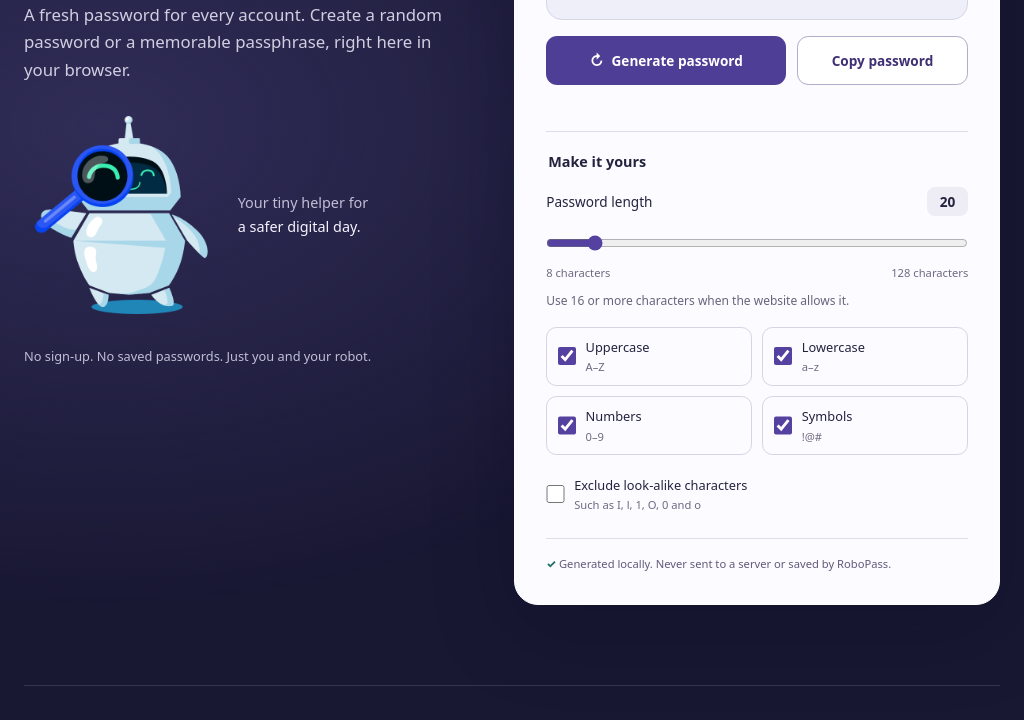
it: RoboPass user flow › shows validation and recovers when a character type is selected again
The width and height of the screenshot is (1024, 720).
(page scrolled)
Click the checkbox labelled "Uppercase A–Z" at (567, 356), box [558,347,576,365]
(page scrolled)
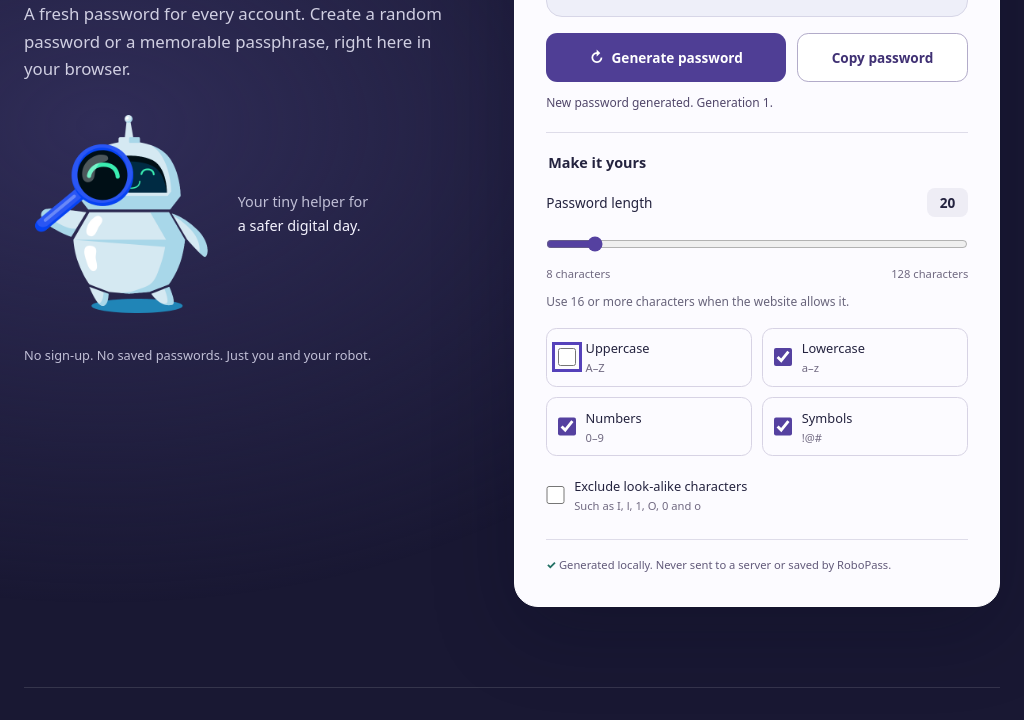
Click the checkbox labelled "Lowercase a–z" at (783, 357), box [774,348,792,366]
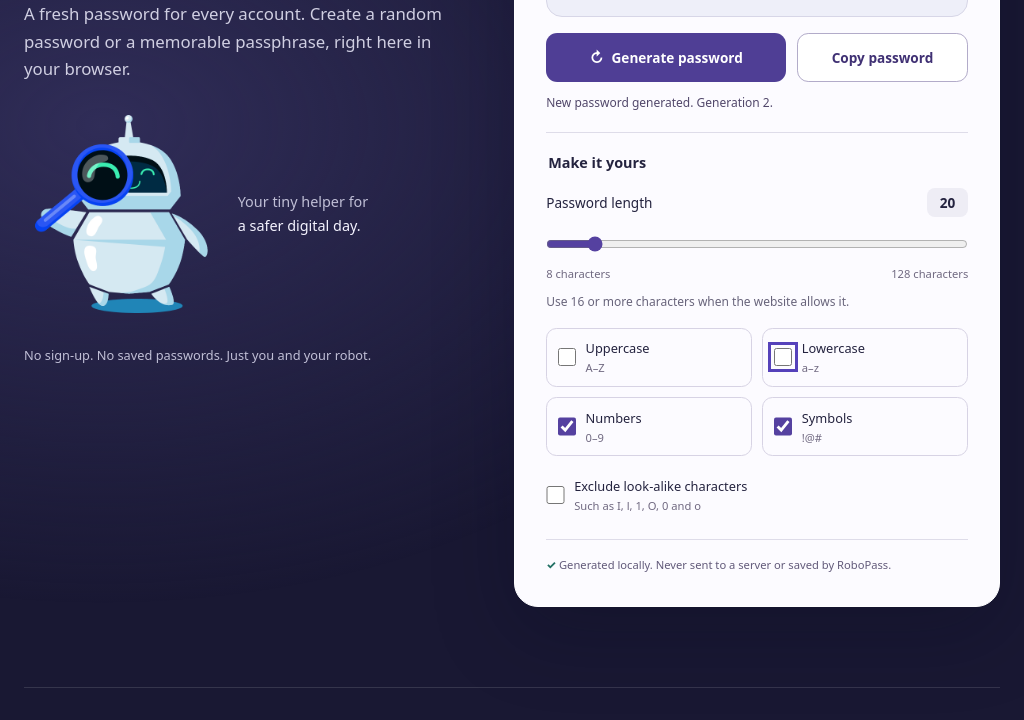
Click the checkbox labelled "Numbers 0–9" at (567, 427), box [558,417,576,436]
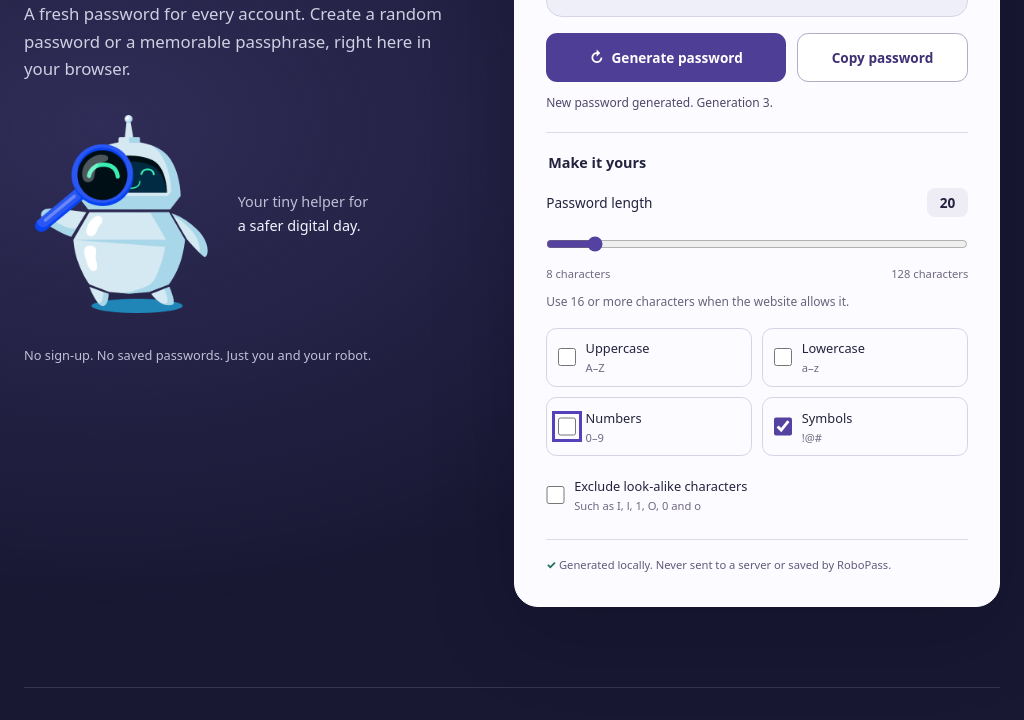
Click the checkbox labelled "Symbols !@#" at (783, 427), box [774,417,792,436]
(page scrolled)
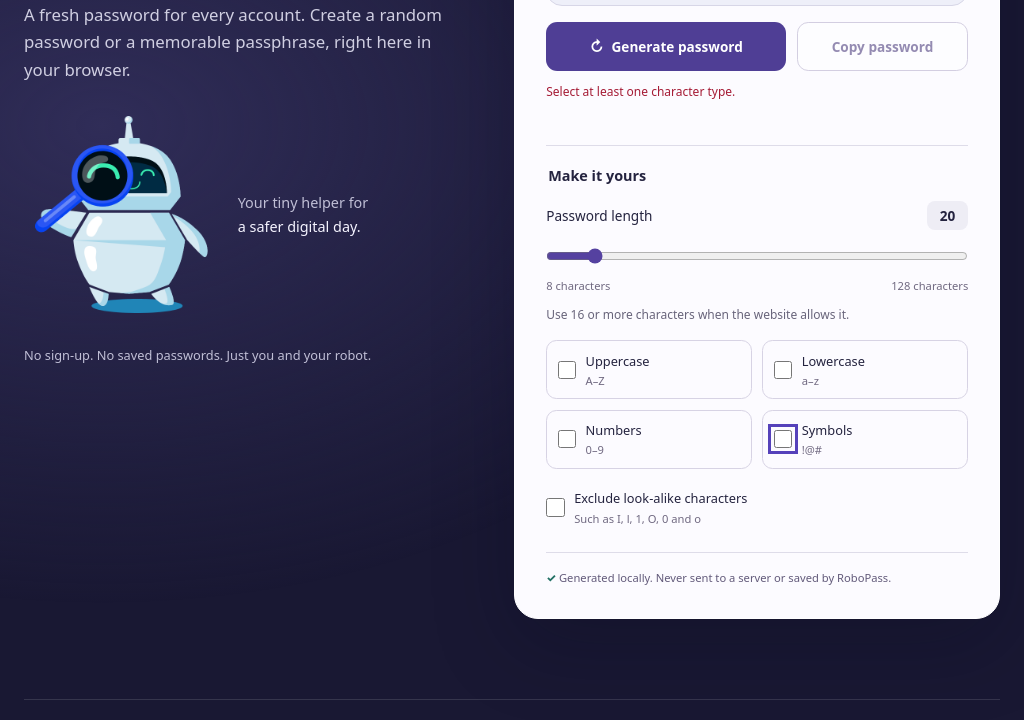
Now the message "Select at least one character type." is shown, box [546,83,735,100]
Now the button "Copy password" is disabled, box [797,22,968,71]
Click the checkbox labelled "Numbers 0–9" at (567, 439), box [558,430,576,448]
(page scrolled)
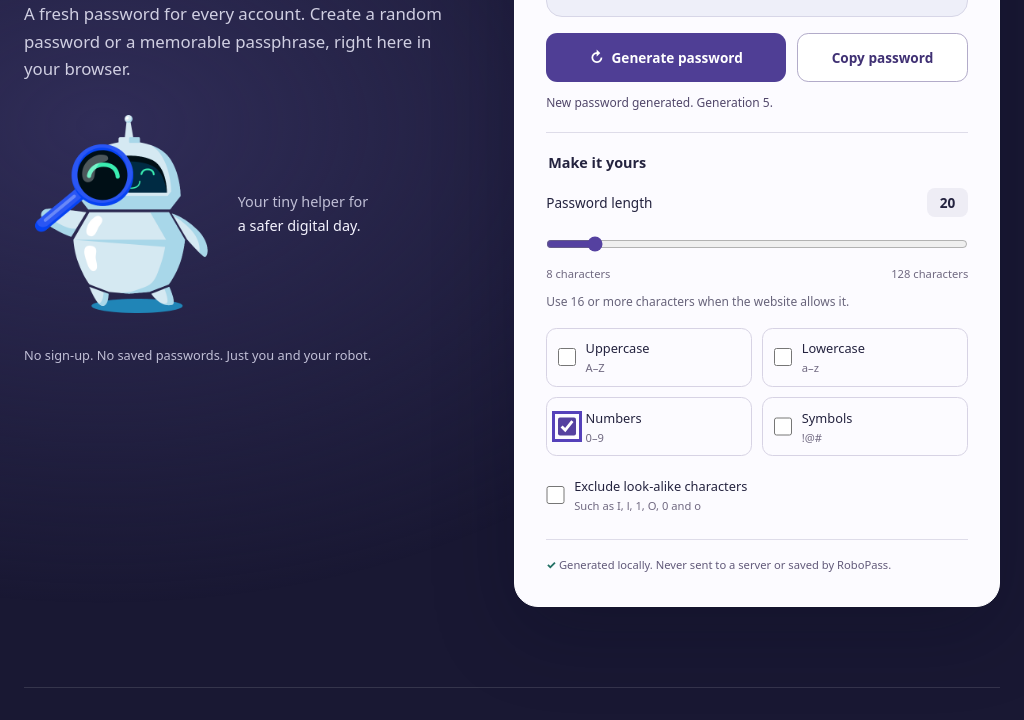
Now the message "Select at least one character type." is gone
